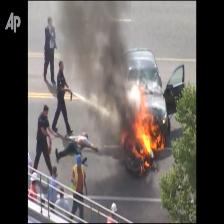fire: (136, 119, 160, 155)
smoke: (74, 1, 122, 100)
